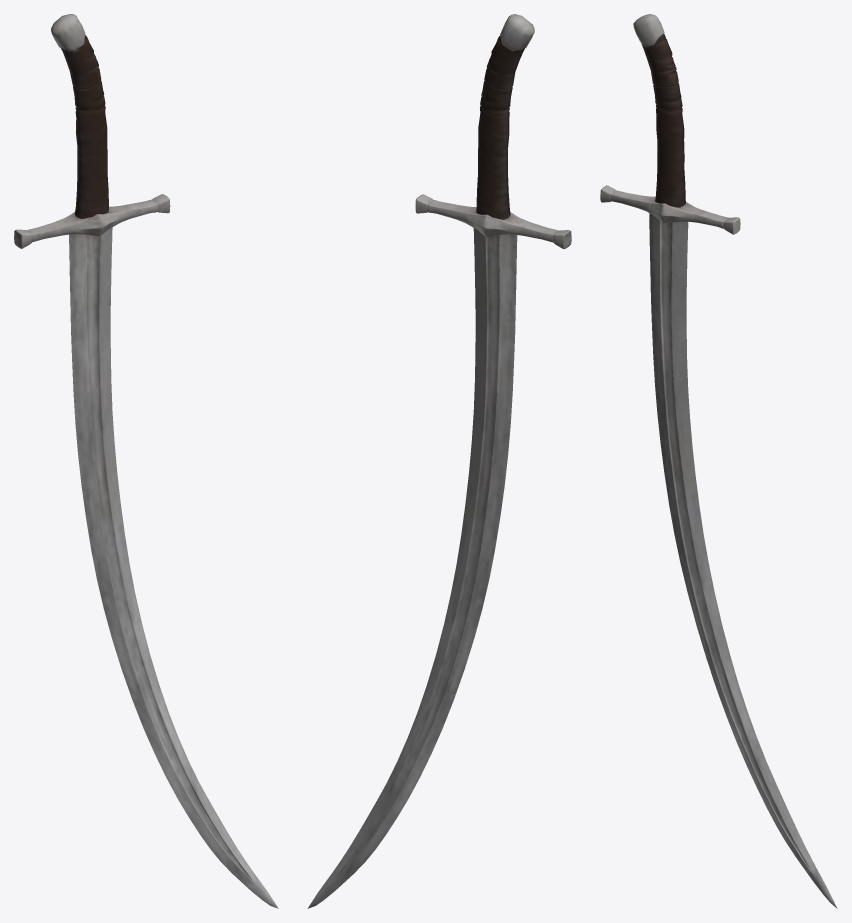
File: weapon-wp_a_1571.glb
3 views of the same model, side by side, from view 1: azimuth 30°, elevation 25°; view 2: azimuth 150°, elevation 25°; view 3: azimuth 330°, elevation 25° (orthographic). The views are drawn at different scales.
Parts seen in each view (by area): view 1: wp_a_1571_mesh; view 2: wp_a_1571_mesh; view 3: wp_a_1571_mesh.
Part boxes in pixels (x1,y1,x2,y2): wp_a_1571_mesh: [14, 14, 278, 908]; wp_a_1571_mesh: [307, 14, 571, 908]; wp_a_1571_mesh: [600, 14, 837, 908].
Size of the model in its own units: 0.3223 by 1.11 by 0.0418.
2 materials, 2 textured.
